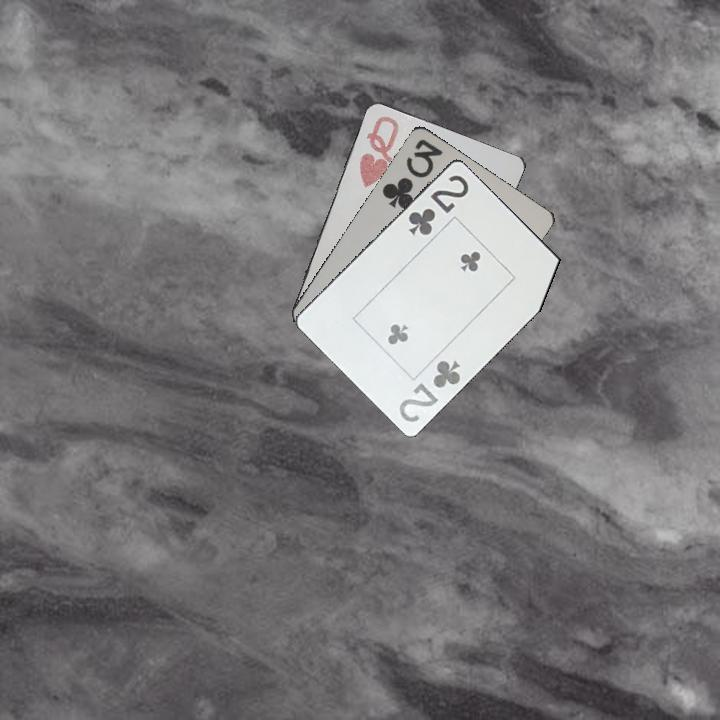2c: (395, 356, 464, 425), (404, 171, 472, 238)
3c: (378, 135, 446, 212)
Qh: (355, 112, 402, 190)
